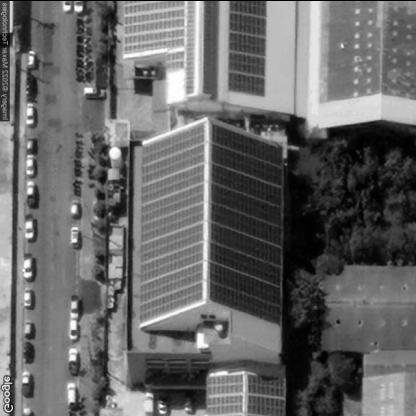solar-pv-panel: (141, 117, 281, 323), (123, 0, 195, 94), (228, 0, 266, 95), (207, 370, 284, 412)
